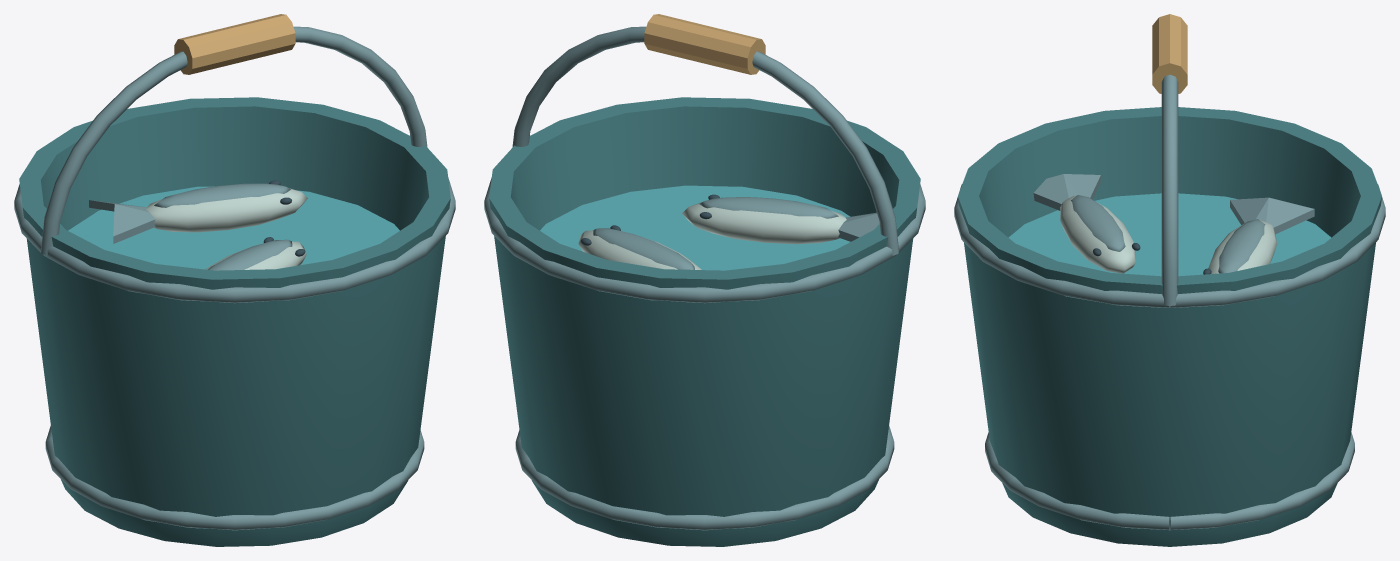
File: SM_FishBucket.fbx
The picture shows the model from 3 angles, left to right: view 1: azimuth 30°, elevation 25°; view 2: azimuth 150°, elevation 25°; view 3: azimuth 270°, elevation 25°; orthographic projection. The views are drawn at different scales.
Parts seen in each view (by area): view 1: SM_FishBucket; view 2: SM_FishBucket; view 3: SM_FishBucket.
Boxes of the visible parts, x1=… form: SM_FishBucket: x1=14, y1=14, x2=455, y2=546; SM_FishBucket: x1=484, y1=14, x2=925, y2=546; SM_FishBucket: x1=954, y1=14, x2=1385, y2=546.
Size of the model in its own units: 0.6378 by 0.6305 by 0.704.
